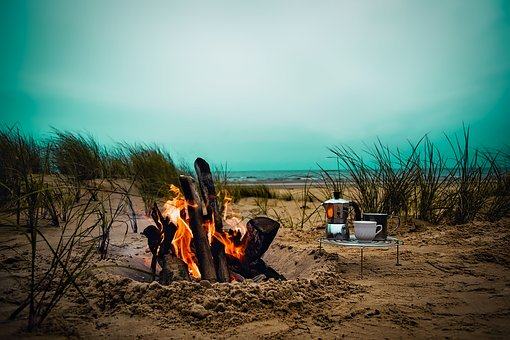field: (10, 163, 505, 337)
sky: (7, 5, 496, 162)
